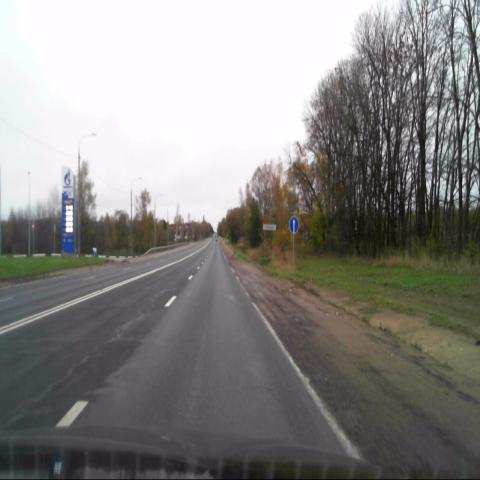4_1_1: (288, 217, 298, 233)
